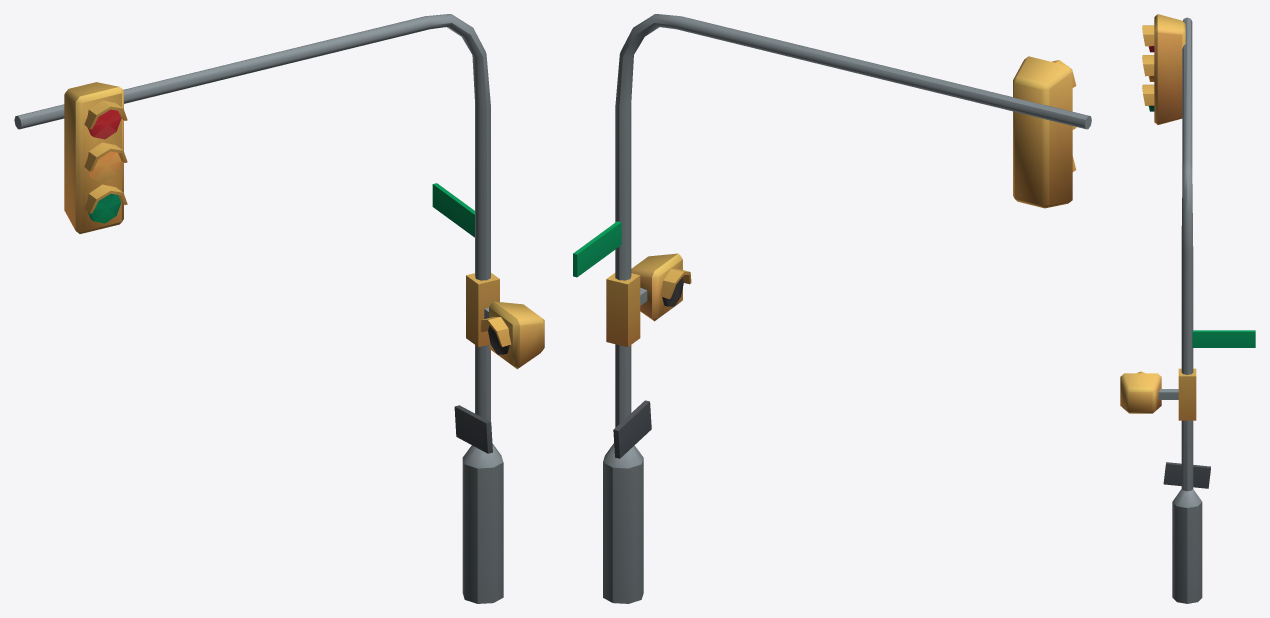
File: kay-semaforo-pedestre.gltf
3 renders of one model, left to right at view 1: azimuth 30°, elevation 25°; view 2: azimuth 150°, elevation 25°; view 3: azimuth 270°, elevation 25°, orthographic. The views are drawn at different scales.
Parts seen in each view (by area): view 1: trafficlight_C; view 2: trafficlight_C; view 3: trafficlight_C.
Boxes of the visible parts, x1,y1,x2,y2 form: trafficlight_C: [14, 14, 544, 603]; trafficlight_C: [573, 14, 1091, 603]; trafficlight_C: [1120, 14, 1255, 603].
Size of the model in its own units: 3.99 by 4.85 by 1.36.
1 material, 1 textured.
